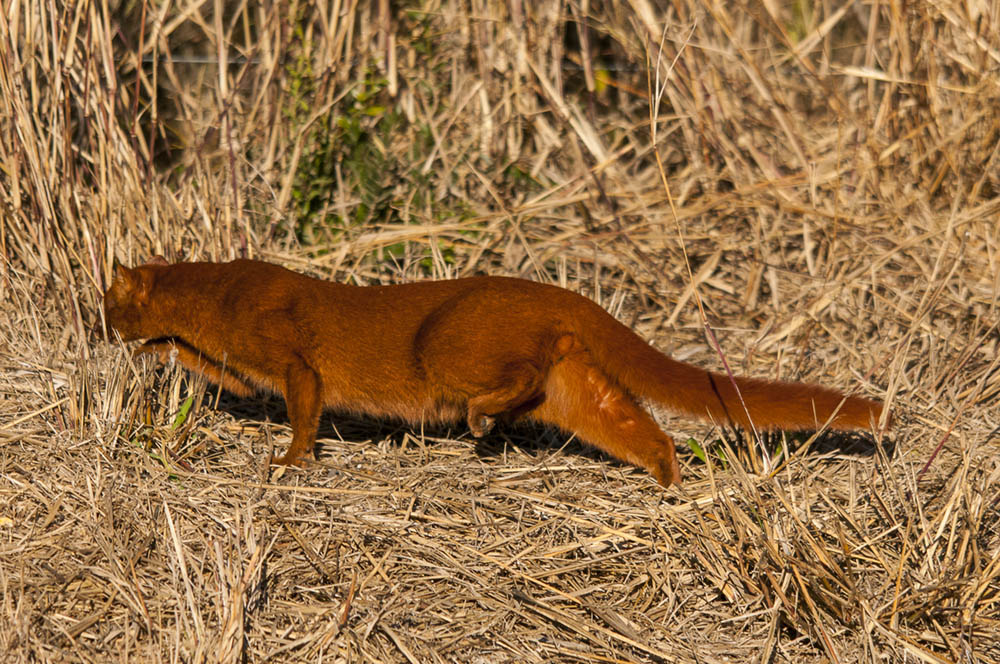Jaguarundi: (74, 243, 901, 495)
